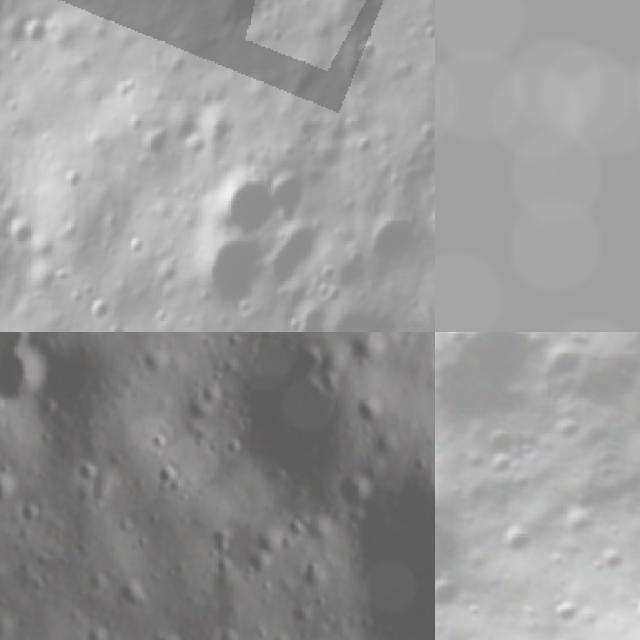crater: (242, 347, 358, 483), (341, 488, 435, 640), (435, 332, 557, 449), (178, 221, 278, 326), (202, 157, 292, 253), (435, 471, 489, 616), (0, 187, 40, 332), (361, 207, 433, 279), (198, 0, 293, 45), (464, 419, 524, 483), (536, 578, 594, 637), (0, 351, 55, 411), (490, 511, 545, 567), (131, 117, 183, 169), (435, 567, 476, 628), (286, 293, 346, 332), (17, 4, 61, 54), (114, 574, 154, 616), (336, 470, 378, 509), (81, 293, 121, 332), (339, 0, 393, 24), (148, 459, 186, 492), (198, 378, 232, 412), (353, 393, 390, 424), (294, 560, 328, 593), (137, 346, 174, 376), (15, 500, 48, 530), (623, 582, 640, 638), (283, 600, 314, 630), (72, 457, 100, 488), (144, 428, 172, 456), (0, 332, 39, 351), (0, 0, 23, 32), (95, 314, 135, 332), (220, 434, 248, 459), (0, 470, 18, 507), (0, 613, 24, 640), (156, 624, 190, 640)
